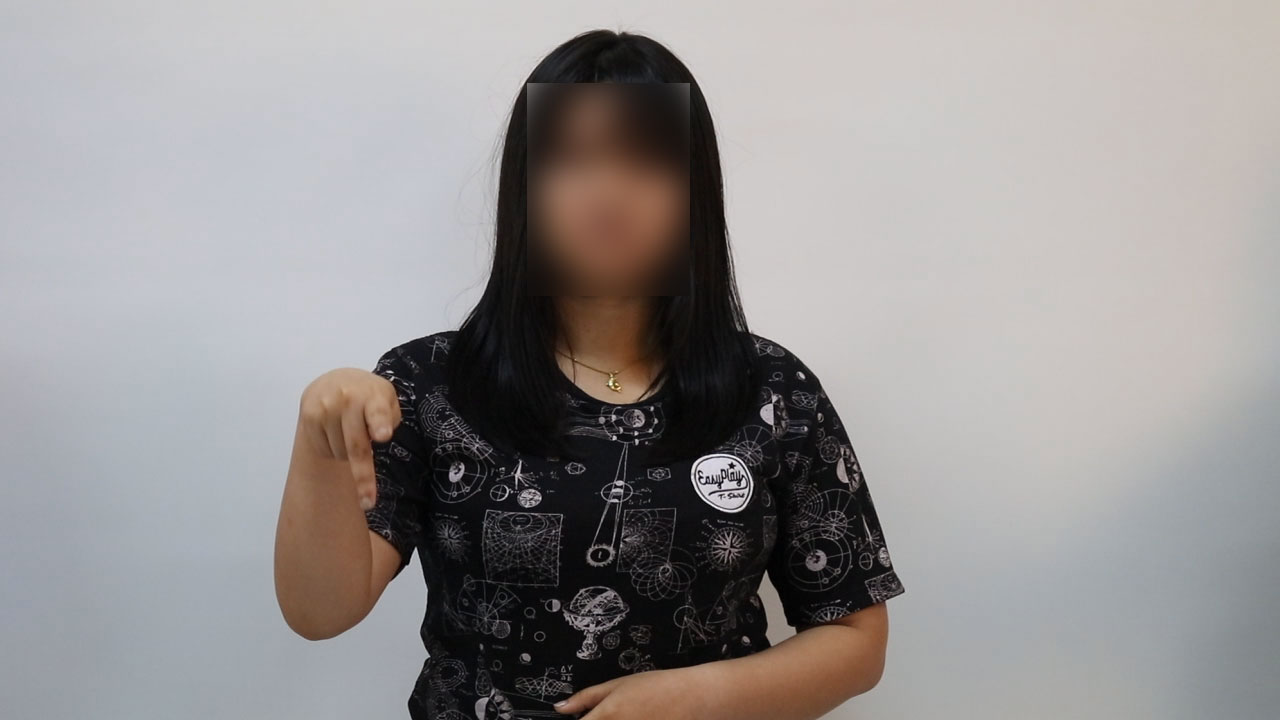por: (298, 355, 413, 522)
